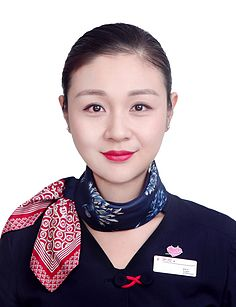unmask: (69, 63, 167, 172)
